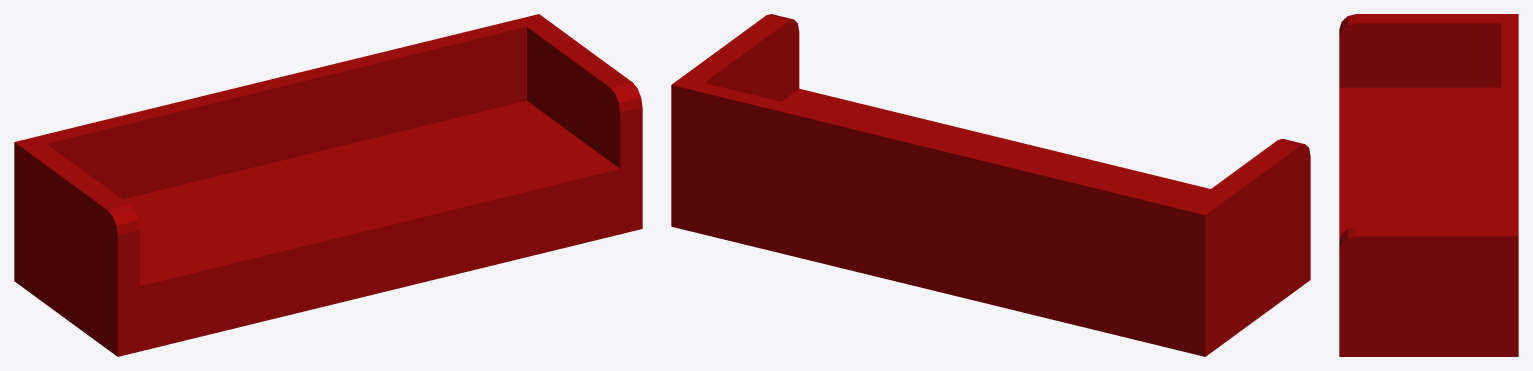
Rendered from Sofa.fbx.
3 views of the same model, side by side, from view 1: azimuth 30°, elevation 25°; view 2: azimuth 150°, elevation 25°; view 3: azimuth 270°, elevation 25° (orthographic). The views are drawn at different scales.
Visible parts, largest first — view 1: Cube; view 2: Cube; view 3: Cube.
Part boxes in pixels (x1,y1,x2,y2): Cube: [14, 14, 642, 356]; Cube: [671, 14, 1310, 356]; Cube: [1339, 14, 1518, 356].
Size of the model in its own units: 959 by 327 by 243.
